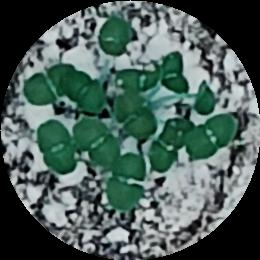Basil: (145, 117, 196, 176), (34, 117, 83, 174), (107, 152, 147, 217), (188, 109, 238, 159), (76, 116, 125, 167), (116, 94, 155, 140), (26, 65, 74, 102), (66, 69, 107, 111), (158, 53, 193, 92), (117, 64, 165, 88), (97, 18, 131, 50)
